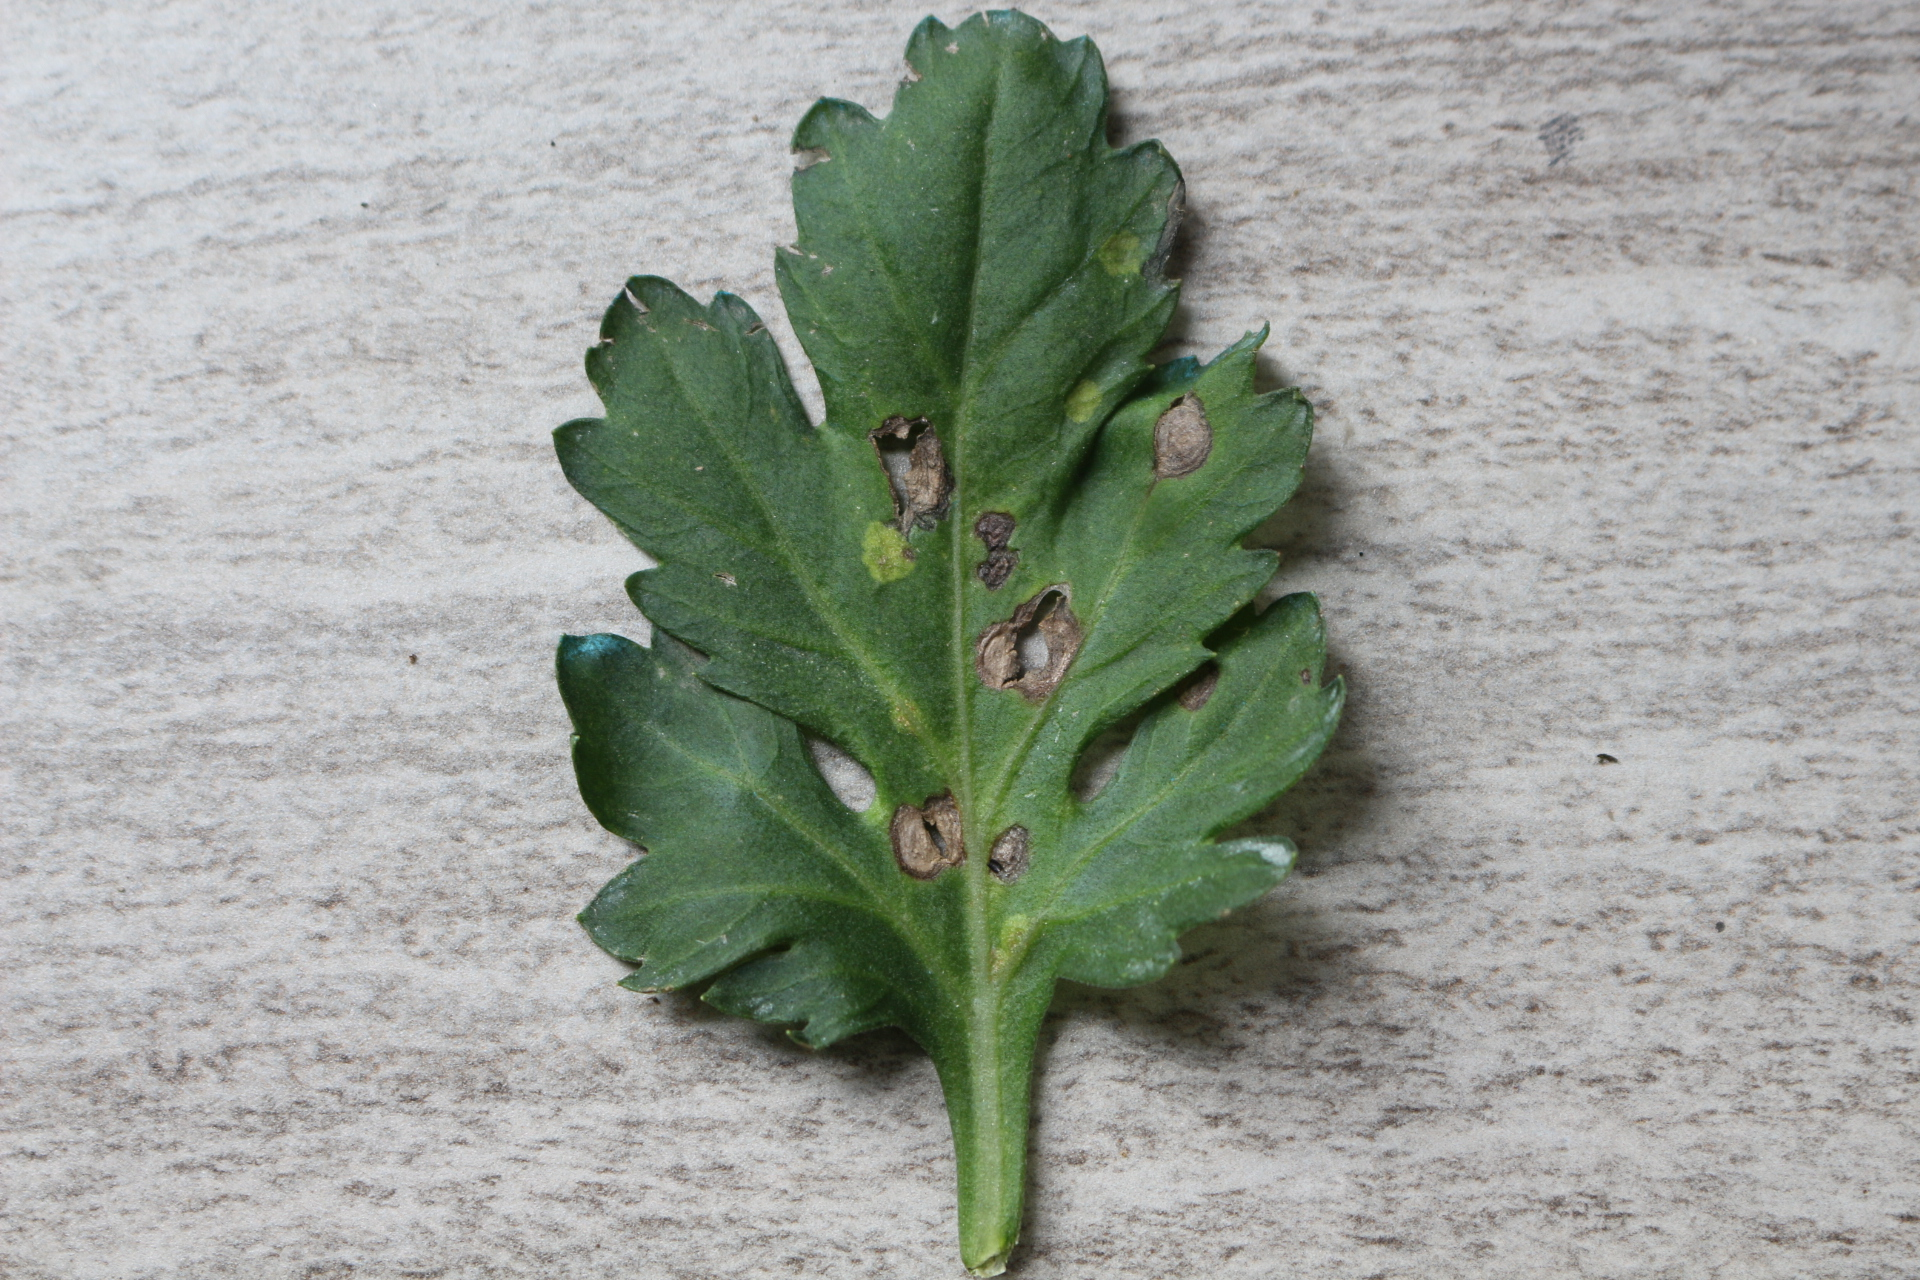namden: (1143, 394, 1226, 489), (874, 794, 967, 877)
namsung: (859, 527, 926, 586), (1054, 369, 1109, 427), (987, 907, 1029, 961), (1103, 223, 1141, 279)
